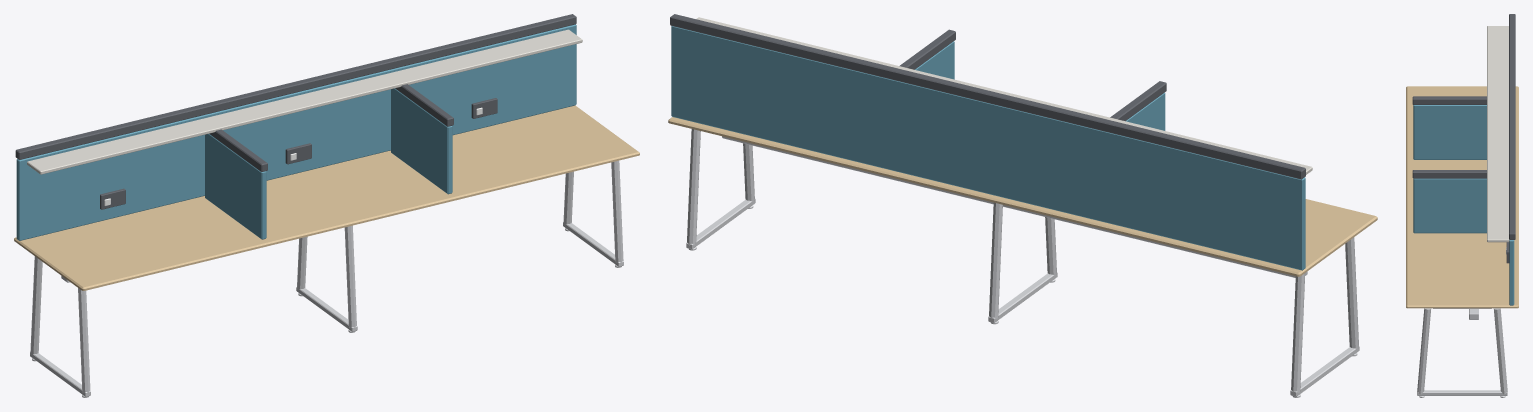
Rendered from university-lecture-hall-and-campus-study-carrel-run-44e9eba8__34762.glb.
The picture shows the model from 3 angles, left to right: view 1: azimuth 30°, elevation 25°; view 2: azimuth 150°, elevation 25°; view 3: azimuth 270°, elevation 25°; orthographic projection. The views are drawn at different scales.
Parts seen in each view (by area): view 1: study-carrel-run; view 2: study-carrel-run; view 3: study-carrel-run.
Part boxes in pixels (x1,y1,x2,y2): study-carrel-run: (14, 14, 639, 397); study-carrel-run: (668, 14, 1377, 397); study-carrel-run: (1406, 14, 1518, 397).
Size of the model in its own units: 3.6 by 1.28 by 0.7801.
